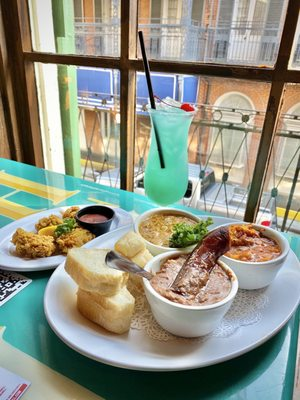curry: (168, 219, 213, 249)
salad: (106, 250, 155, 280)
sushi: (142, 241, 239, 338), (220, 224, 289, 290), (136, 207, 213, 256), (75, 205, 116, 236)
